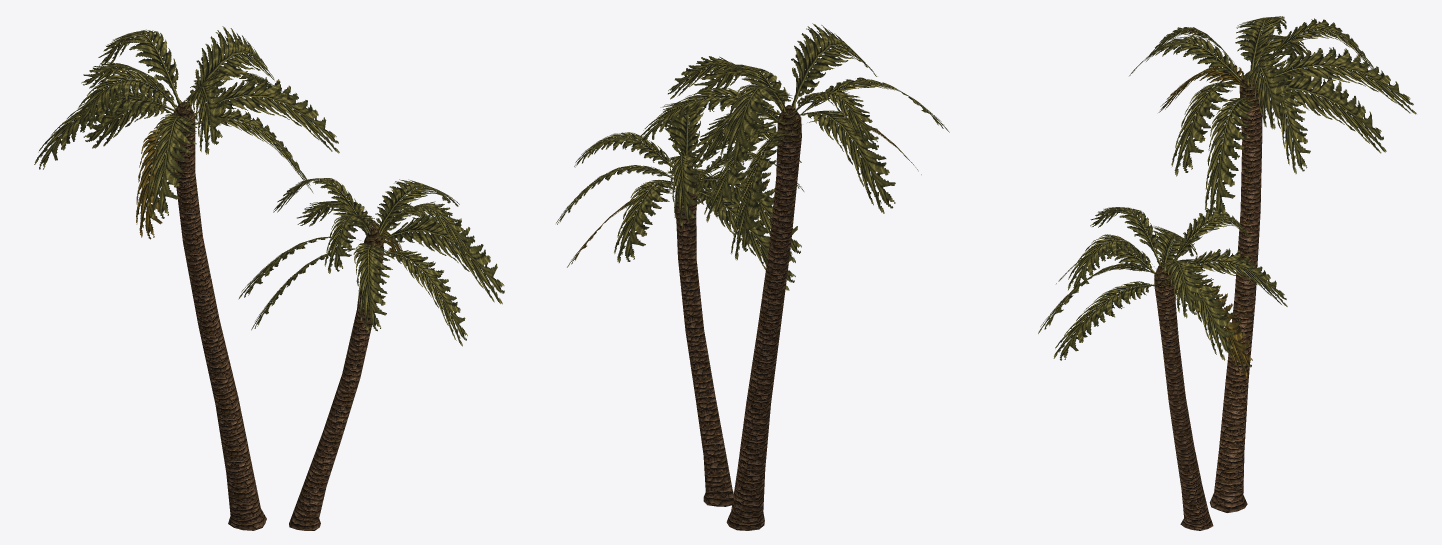
File: Palmeira_04_Gemeas.glb
The picture shows the model from 3 angles, left to right: view 1: azimuth 30°, elevation 25°; view 2: azimuth 150°, elevation 25°; view 3: azimuth 270°, elevation 25°; orthographic projection. The views are drawn at different scales.
Visible parts, largest first — view 1: Caule 1, Folhas abertas 1, Folhas novas 1, Folhas abertas 2, Caule 2, Folhas novas 2, Folhas inferiores 1, Folhas inferiores 2; view 2: Caule 1, Folhas abertas 1, Folhas novas 1, Caule 2, Folhas abertas 2, Folhas novas 2, Folhas inferiores 1, Folhas inferiores 2, Bainhas da copa 1; view 3: Folhas abertas 1, Caule 1, Folhas inferiores 1, Folhas abertas 2, Folhas novas 2, Folhas novas 1, Caule 2, Folhas inferiores 2.
Part boxes in pixels (left/top/right/bottom): Caule 1: left=175, top=134, right=266, bottom=530; Folhas abertas 1: left=34, top=61, right=339, bottom=220; Folhas novas 1: left=76, top=26, right=274, bottom=154; Folhas abertas 2: left=238, top=198, right=504, bottom=332; Caule 2: left=289, top=252, right=383, bottom=530; Folhas novas 2: left=273, top=178, right=470, bottom=273; Folhas inferiores 1: left=83, top=96, right=313, bottom=239; Folhas inferiores 2: left=251, top=217, right=467, bottom=346; Caule 1: left=726, top=137, right=801, bottom=530; Folhas abertas 1: left=637, top=64, right=949, bottom=222; Folhas novas 1: left=668, top=23, right=877, bottom=168; Caule 2: left=676, top=194, right=733, bottom=506; Folhas abertas 2: left=556, top=112, right=804, bottom=262; Folhas novas 2: left=574, top=101, right=801, bottom=227; Folhas inferiores 1: left=687, top=108, right=921, bottom=260; Folhas inferiores 2: left=567, top=169, right=795, bottom=290; Bainhas da copa 1: left=777, top=105, right=801, bottom=142; Folhas abertas 1: left=1129, top=34, right=1416, bottom=176; Caule 1: left=1209, top=101, right=1262, bottom=512; Folhas inferiores 1: left=1158, top=62, right=1386, bottom=221; Folhas abertas 2: left=1038, top=226, right=1287, bottom=360; Folhas novas 2: left=1068, top=206, right=1257, bottom=318; Folhas novas 1: left=1146, top=16, right=1378, bottom=129; Caule 2: left=1154, top=286, right=1213, bottom=530; Folhas inferiores 2: left=1053, top=253, right=1252, bottom=376.
Size of the model in its own units: 9.07 by 10.53 by 8.65.
Materials: 2 (2 with a texture image).
